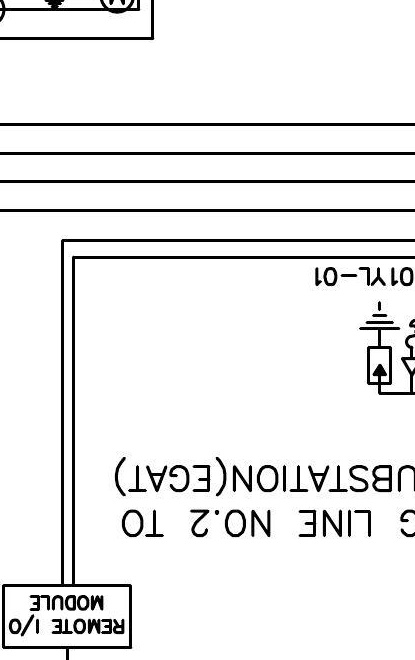115_la: (358, 300, 401, 385)
remote_io_module: (2, 584, 133, 649)
